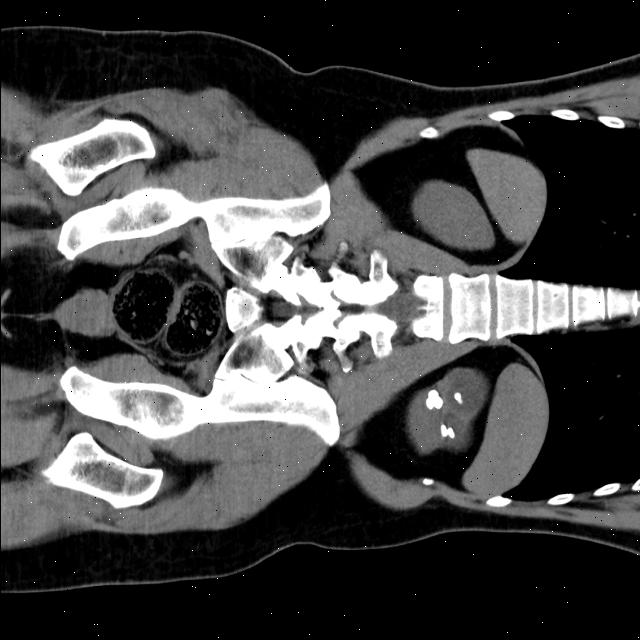kidneystone: (426, 389, 442, 409), (453, 392, 461, 404), (446, 427, 454, 437)
